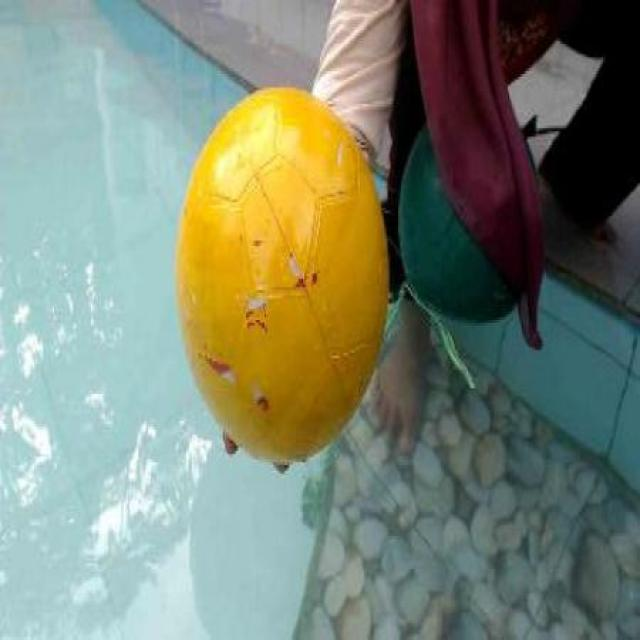buoy: (176, 86, 387, 462)
